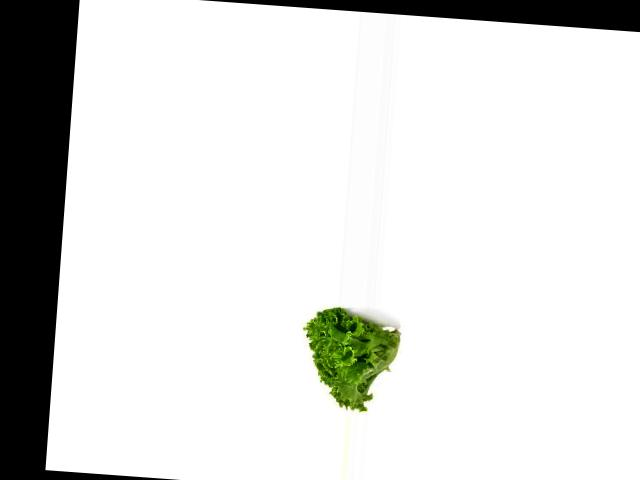lettuce: (292, 305, 408, 417)
